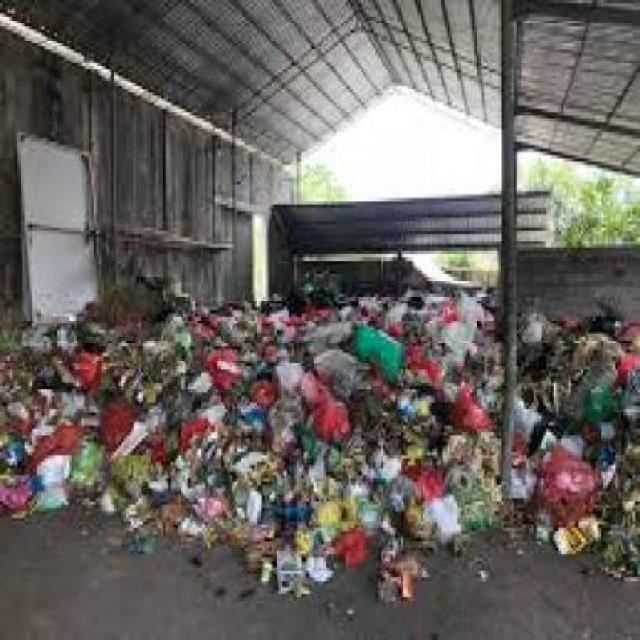garbage: (0, 228, 637, 610)
